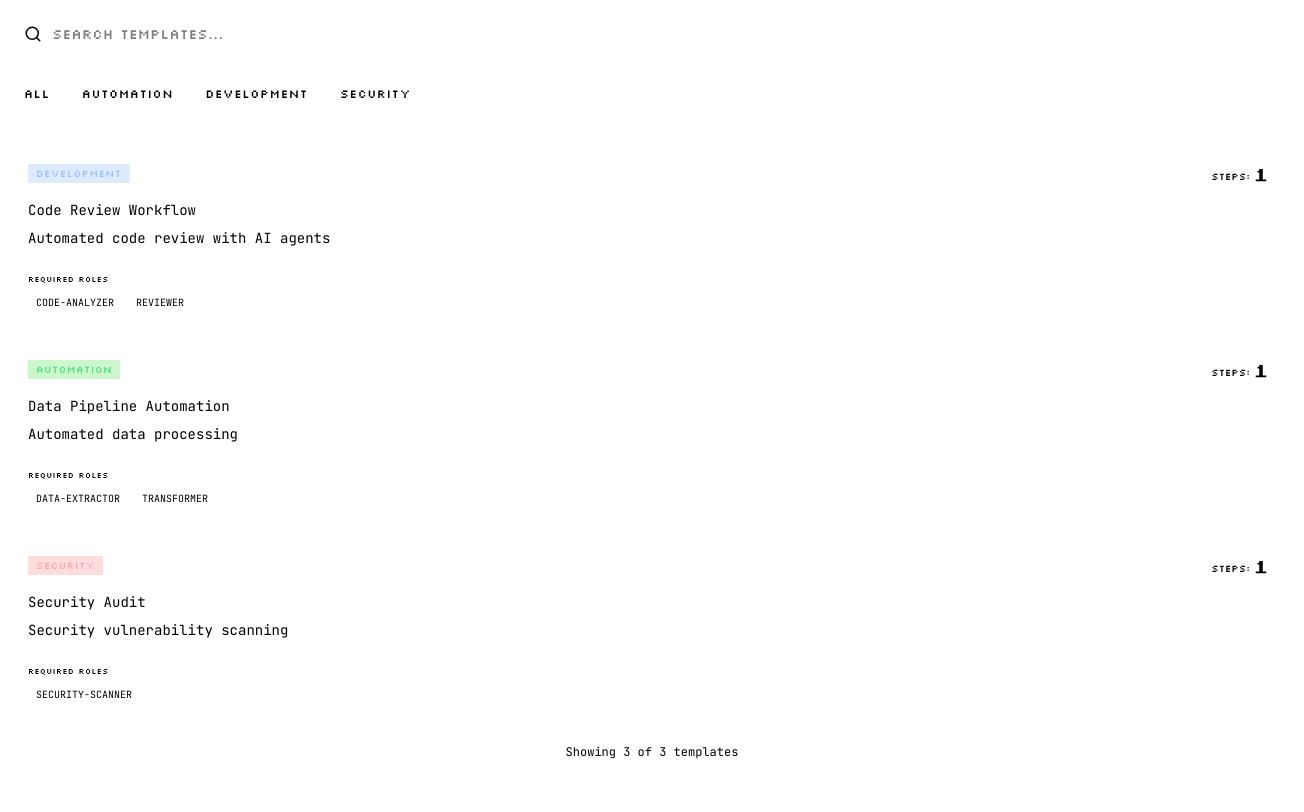
Test: IntentGallery › search filtering › filters templates by search query
In the search field with placeholder "Search templates...": [652, 34] box [12,12,1292,56], type "security"
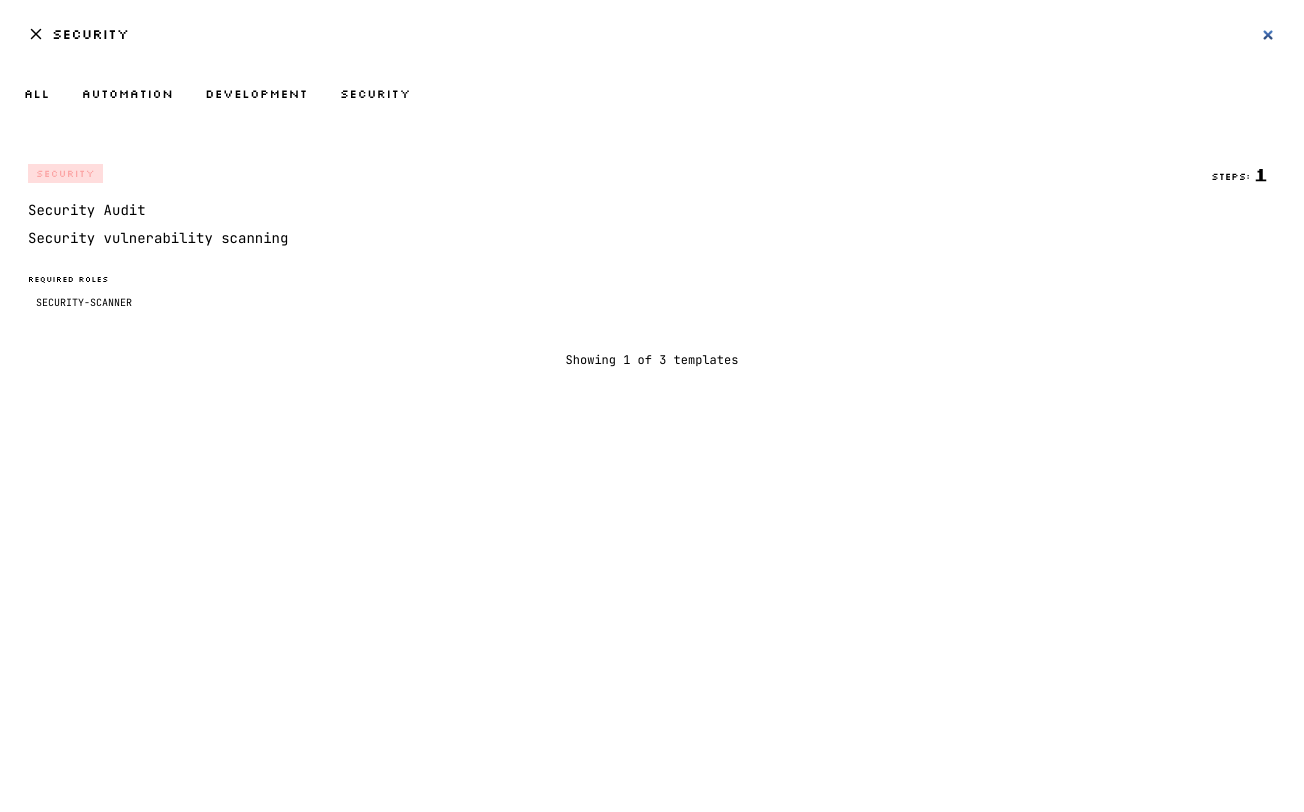
Expected: the heading "Security Audit" is shown, [28,201,146,219]
Result: the number of elements with test id "intent-card" is 1 at [12,148,1292,328]
